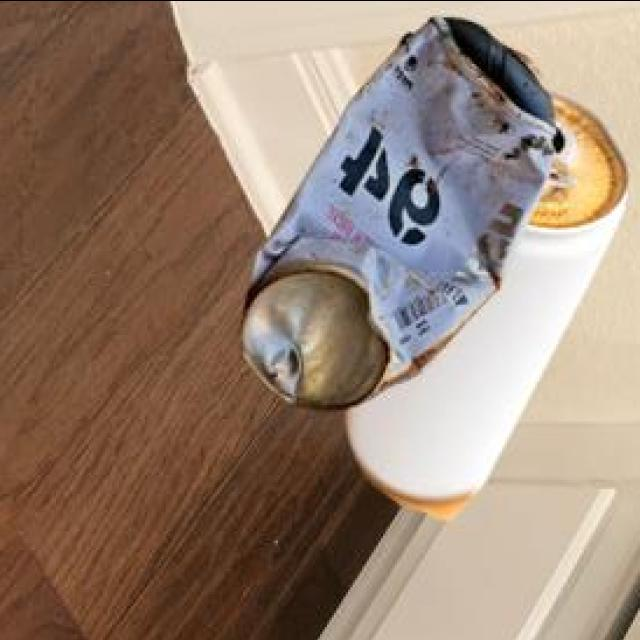logam: (244, 20, 559, 412), (349, 96, 629, 522)
